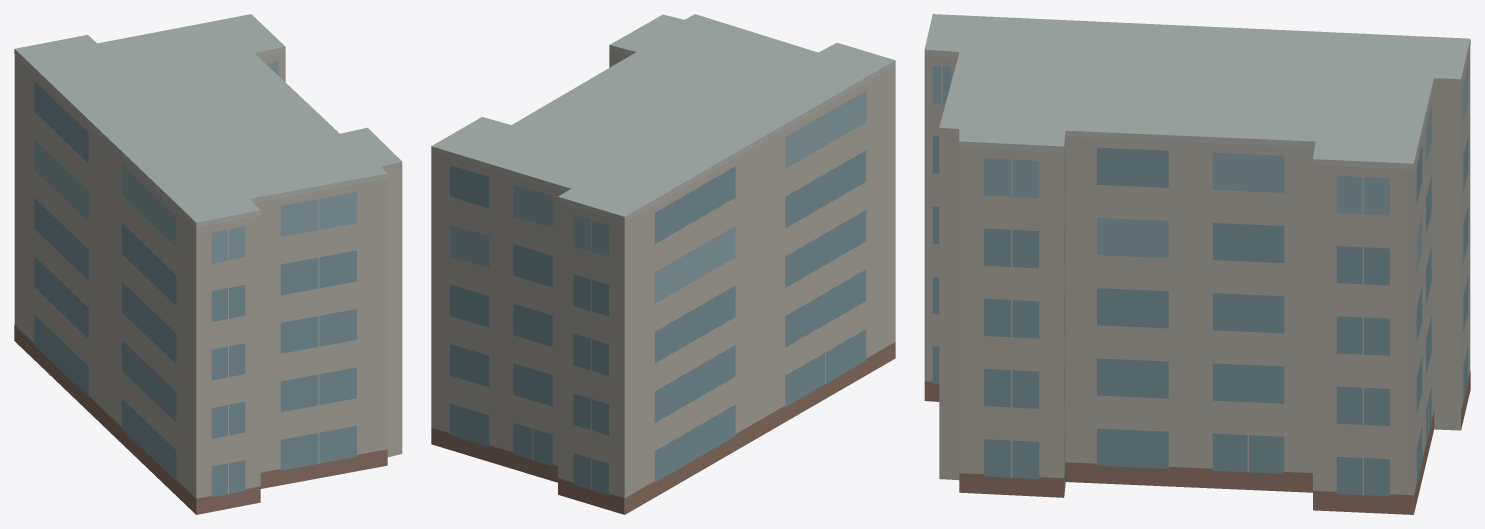
The model's file is survey-upis-32565726.glb.
The picture shows the model from 3 angles, left to right: view 1: azimuth 30°, elevation 25°; view 2: azimuth 150°, elevation 25°; view 3: azimuth 270°, elevation 25°; orthographic projection. The views are drawn at different scales.
Visible parts, largest first — view 1: survey-upis-32565726.tmp; view 2: survey-upis-32565726.tmp; view 3: survey-upis-32565726.tmp.
Part boxes in pixels (<box>): survey-upis-32565726.tmp: <box>14,14,402,514</box>; survey-upis-32565726.tmp: <box>431,14,895,514</box>; survey-upis-32565726.tmp: <box>924,14,1470,514</box>.
Size of the model in its own units: 13.07 by 14.3 by 20.16.
